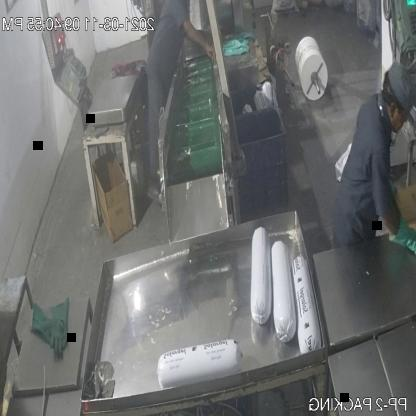no_glove: (180, 13, 217, 69)
